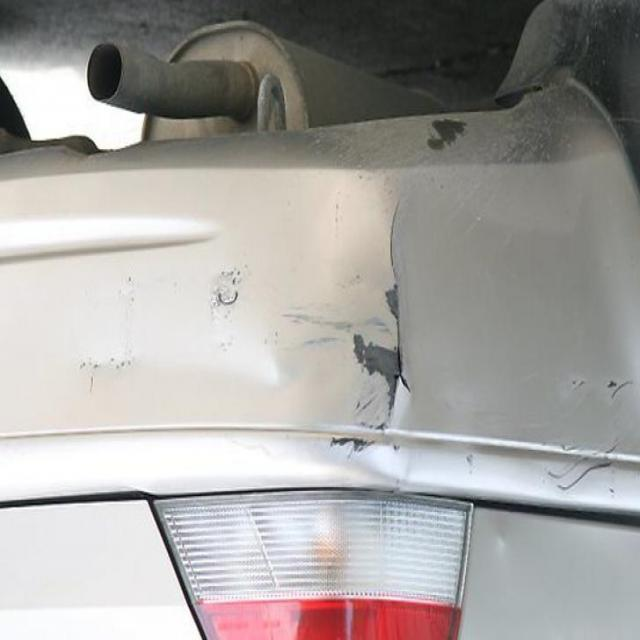scratch: (315, 186, 427, 467), (412, 112, 479, 168)
